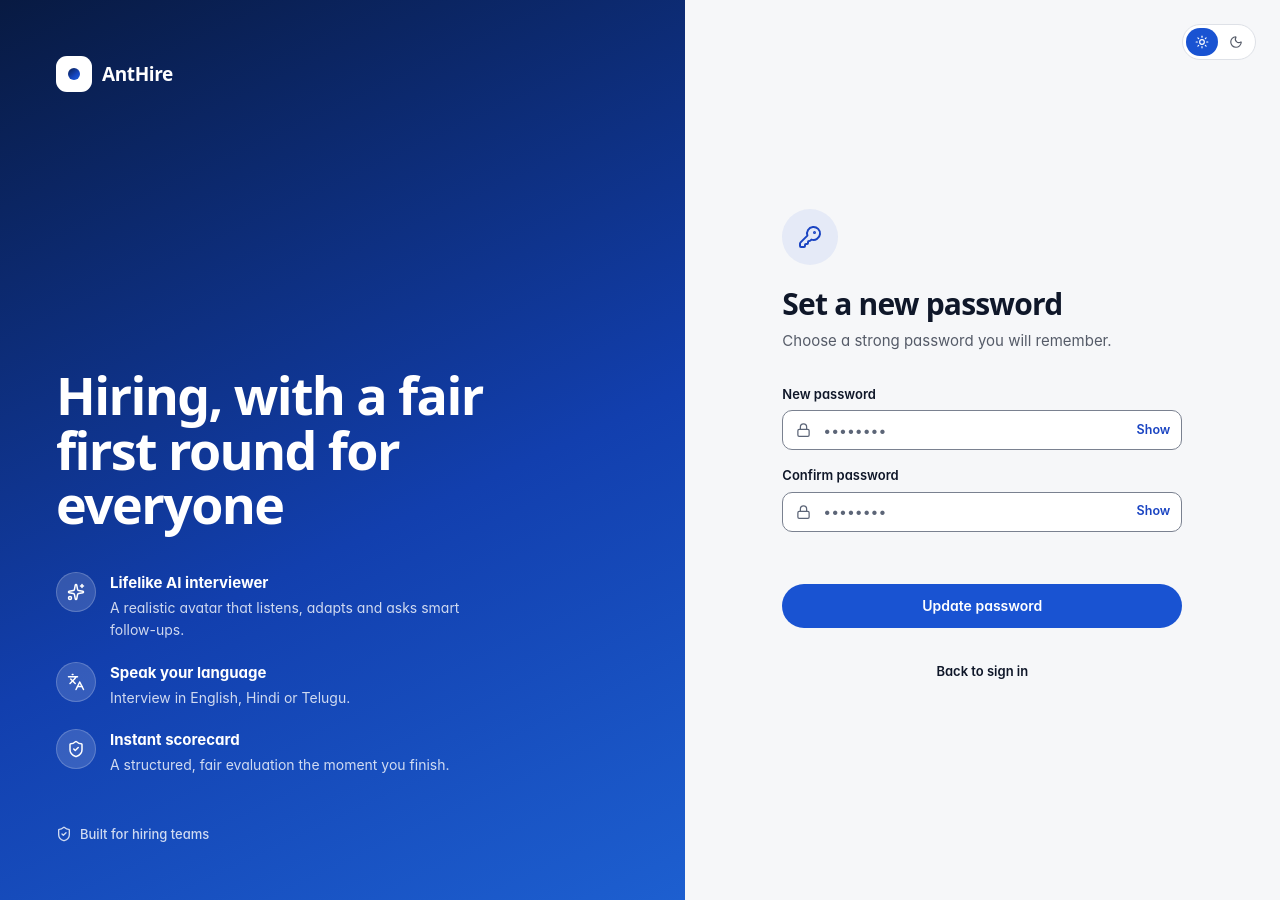
Test: ResetPassword › will not submit a password under 8 characters
The image size is (1280, 900).
Type "short" into the password field labelled "New password" at (982, 430), box top-left (782, 410), bottom-right (1182, 450)
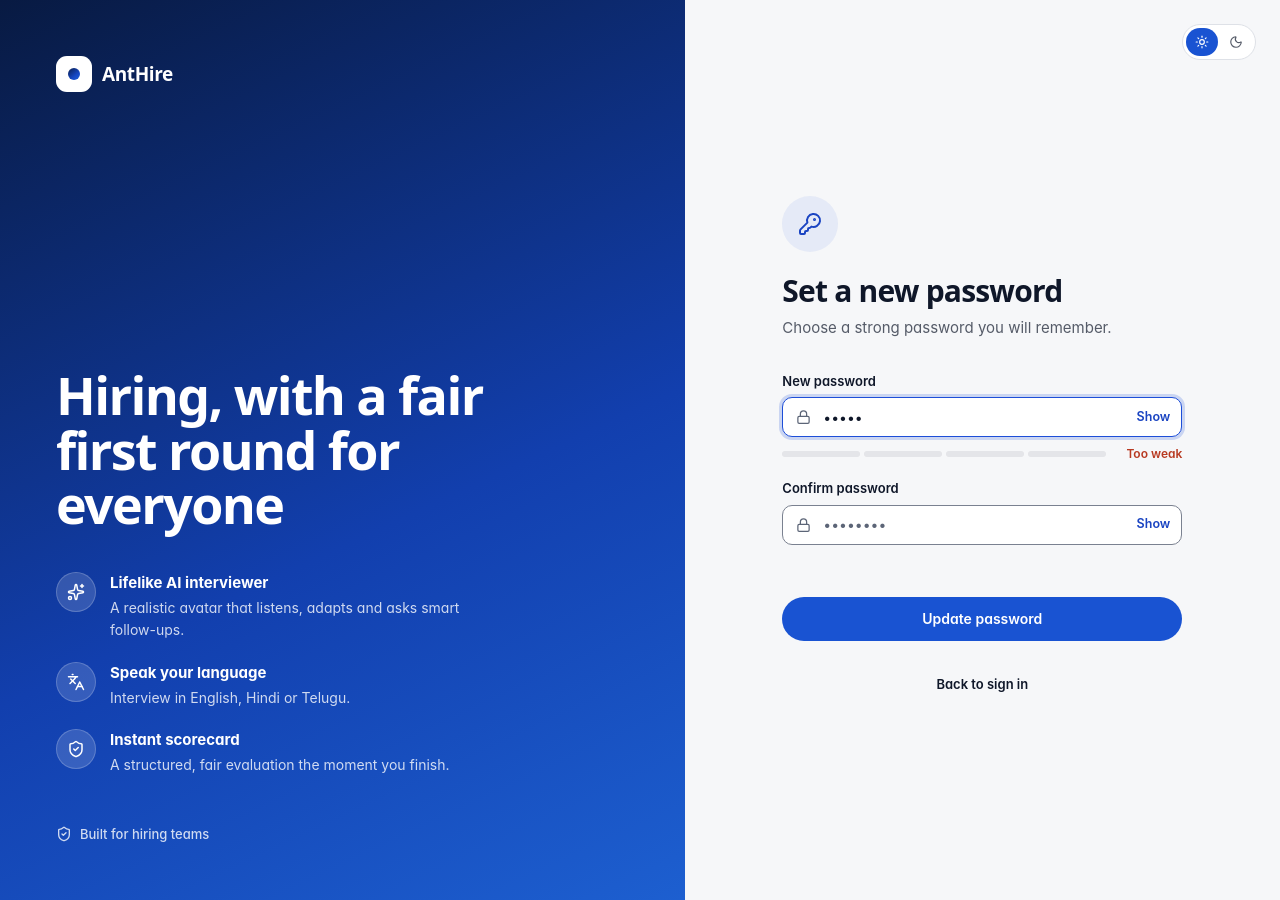
Type "short" into the password field labelled "Confirm password" at (982, 524), box top-left (782, 504), bottom-right (1182, 544)
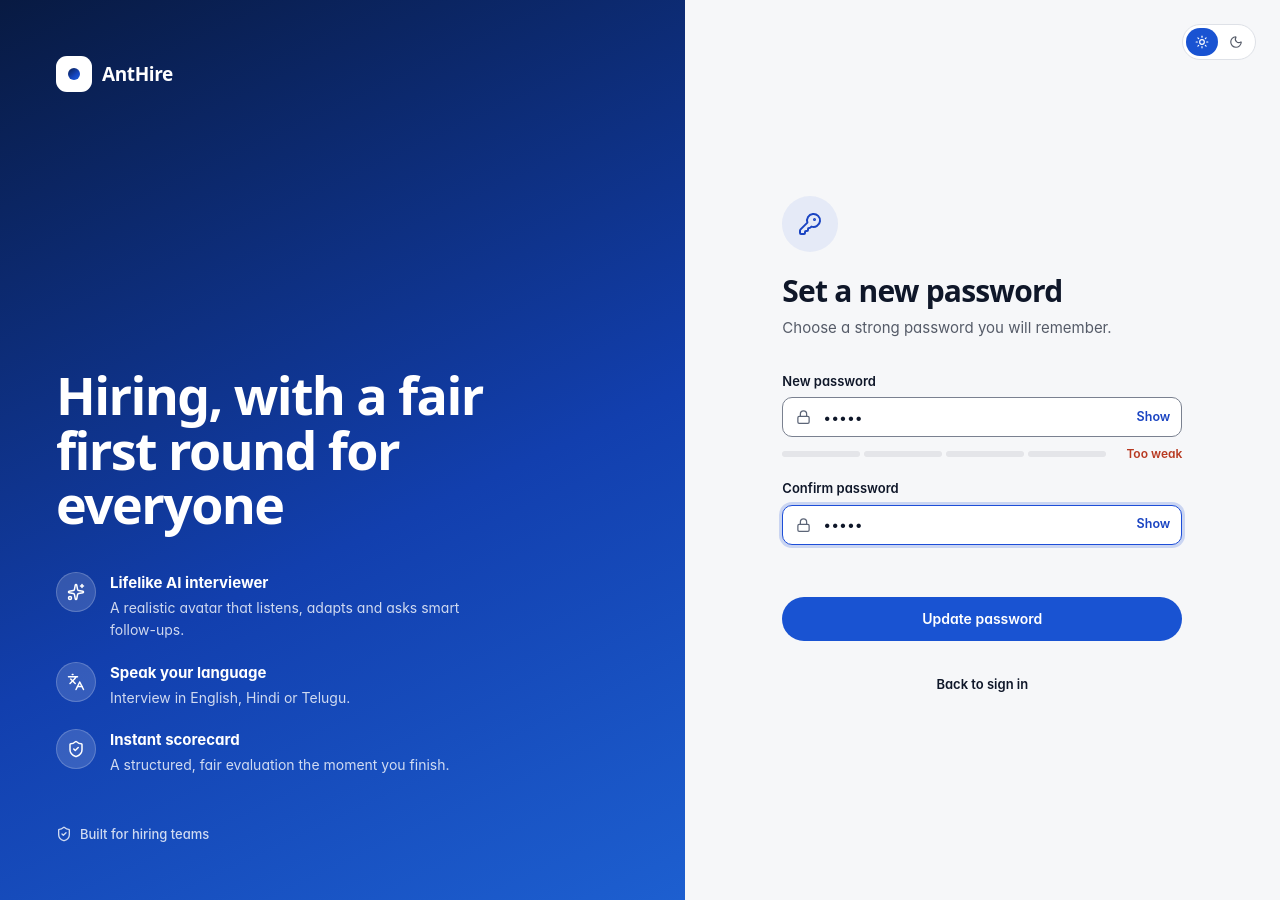
Click the button "Update password" at (982, 618), box top-left (782, 596), bottom-right (1182, 640)
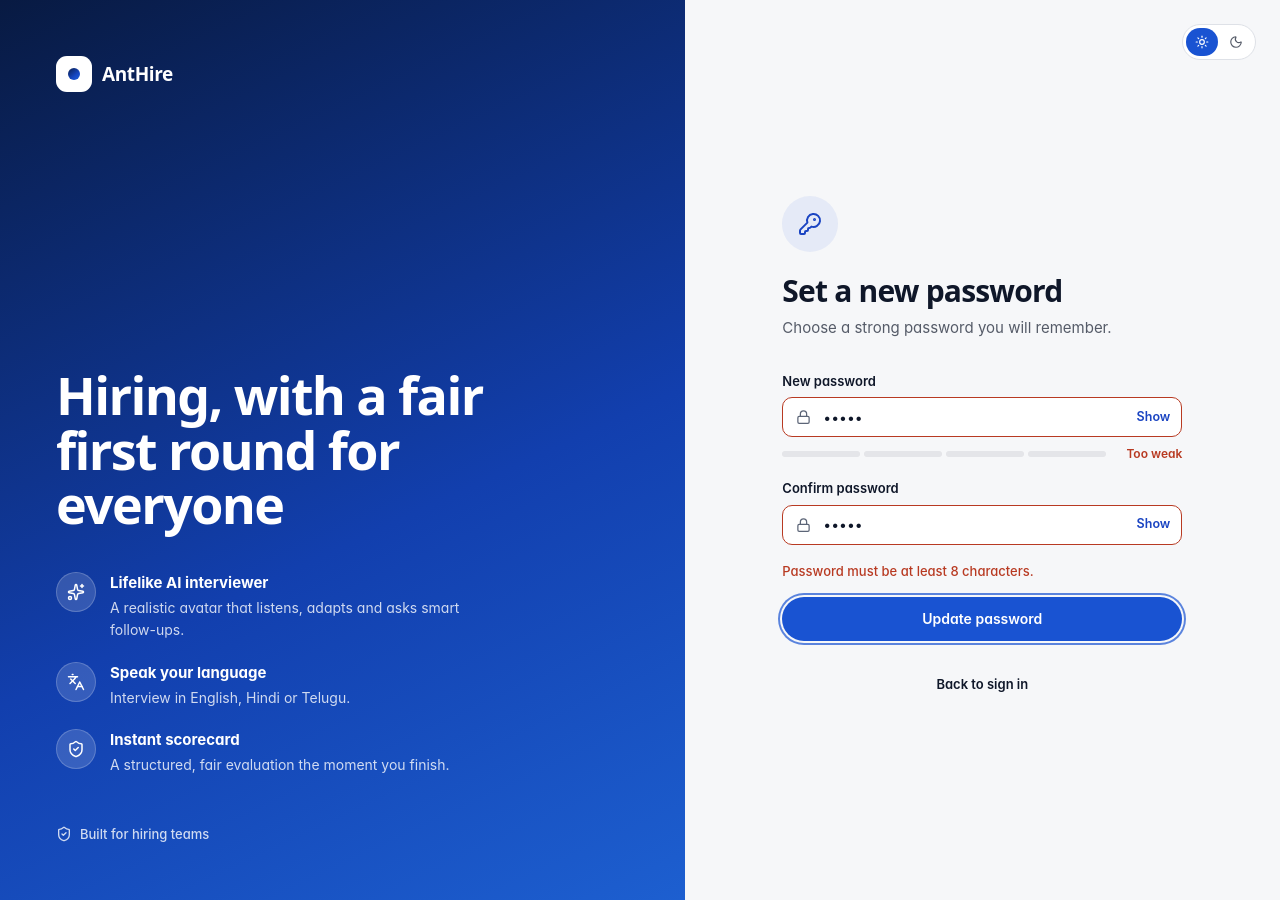
Expected: the message "Password must be at least 8 characters." is shown, top-left (782, 562), bottom-right (1034, 578)
